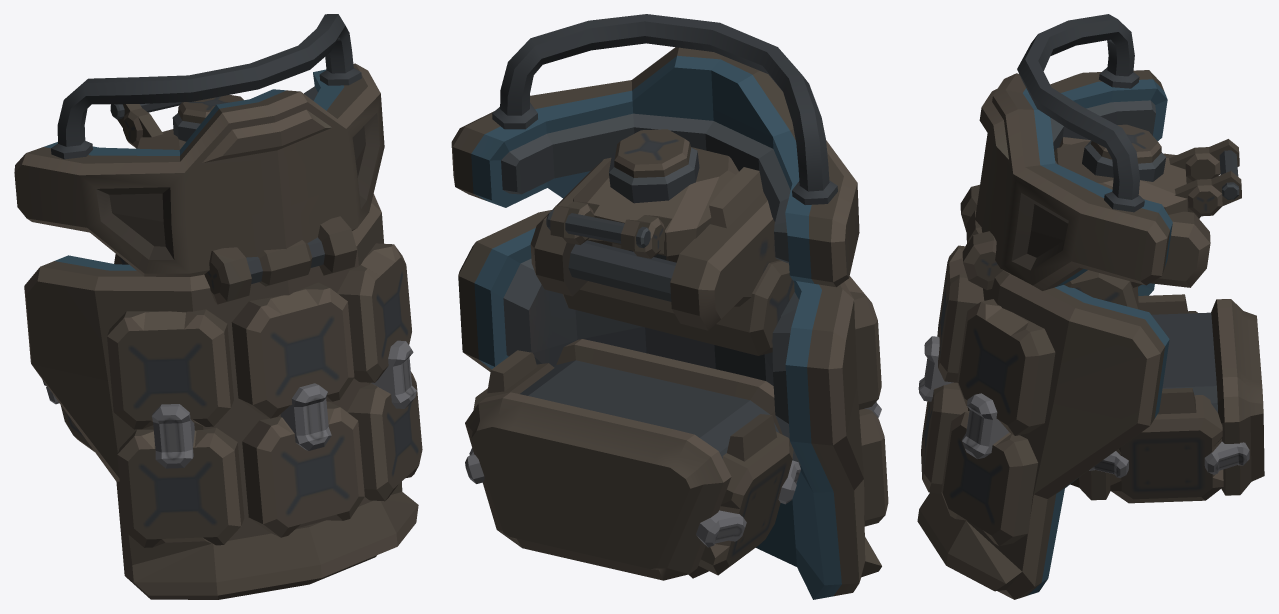
Rendered from SM_Mech_Arm_01_Armor_Shoulder_04.fbx.
3 renders of one model, left to right at view 1: azimuth 30°, elevation 25°; view 2: azimuth 150°, elevation 25°; view 3: azimuth 270°, elevation 25°, orthographic. The views are drawn at different scales.
Visible parts, largest first — view 1: SM_Mech_Arm_01_Armor_Shoulder_04; view 2: SM_Mech_Arm_01_Armor_Shoulder_04; view 3: SM_Mech_Arm_01_Armor_Shoulder_04.
Part boxes in pixels (bbox=[...]): SM_Mech_Arm_01_Armor_Shoulder_04: bbox=[14, 14, 422, 599]; SM_Mech_Arm_01_Armor_Shoulder_04: bbox=[451, 14, 888, 599]; SM_Mech_Arm_01_Armor_Shoulder_04: bbox=[917, 14, 1264, 599].
Size of the model in its own units: 92.23 by 124 by 80.27.
